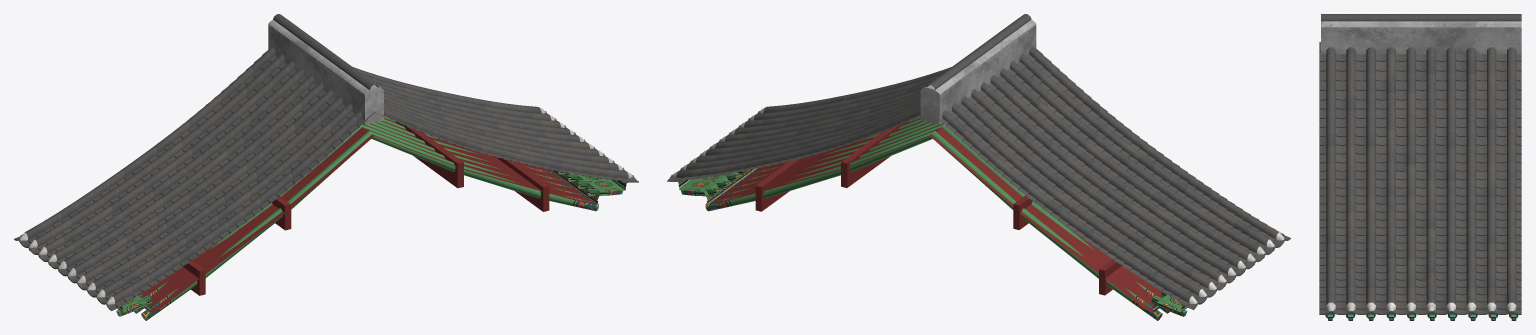
The model's file is SM_Gate_Roof04a.fbx.
3 renders of one model, left to right at view 1: azimuth 30°, elevation 25°; view 2: azimuth 150°, elevation 25°; view 3: azimuth 270°, elevation 25°, orthographic. The views are drawn at different scales.
Parts seen in each view (by area): view 1: SM_Gate_Roof04a; view 2: SM_Gate_Roof04a; view 3: SM_Gate_Roof04a.
Part boxes in pixels (x1,y1,x2,y2): SM_Gate_Roof04a: (14,14,638,320); SM_Gate_Roof04a: (667,14,1290,320); SM_Gate_Roof04a: (1319,14,1521,320).
Size of the model in its own units: 943 by 303 by 315.
2 materials, 2 textured.
